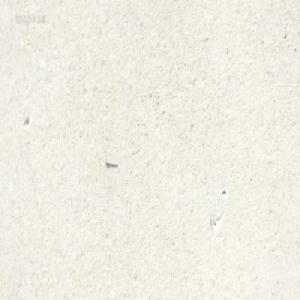Nail: (104, 157, 117, 166)
